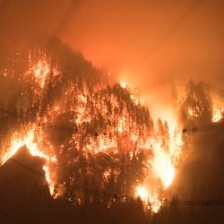fire: (79, 89, 181, 213), (4, 130, 56, 194), (27, 57, 59, 99), (208, 98, 224, 123)
